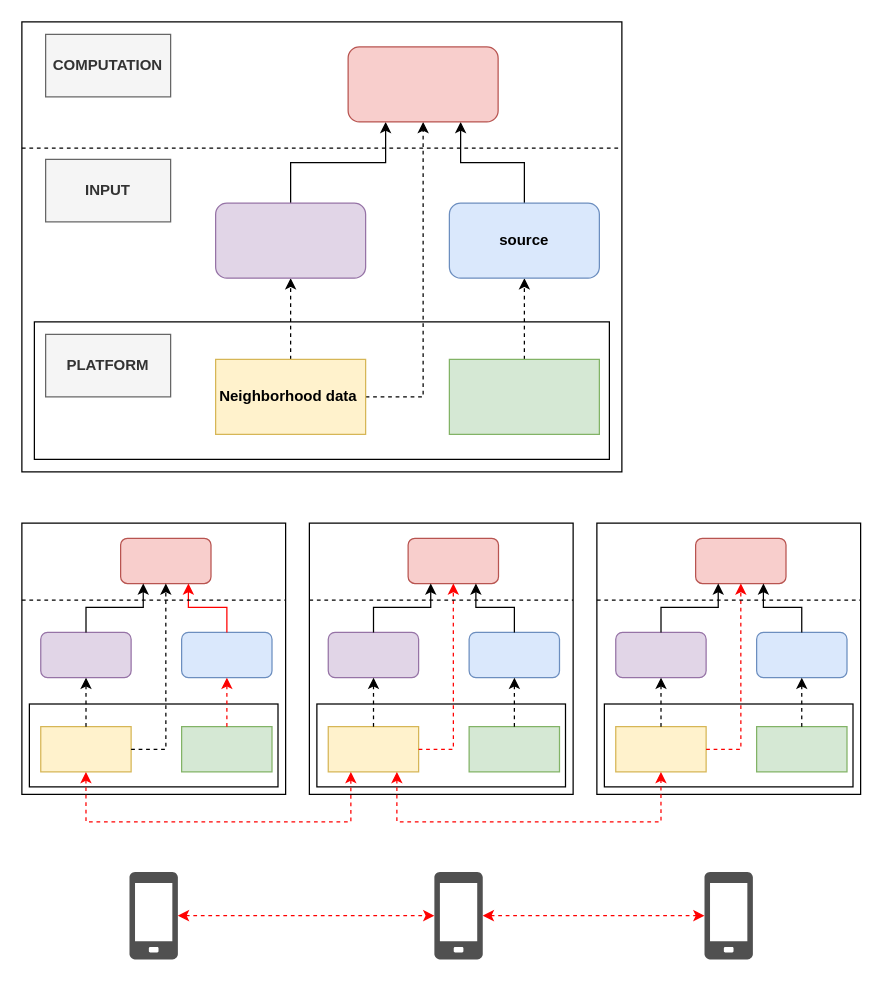
Image size: 884x981. Some labels were removed from this diagram. Here are the shapes that lost their labels. From the top down, the centre of each, then its label:
At (422,84): "gradient(source)".
At (290,240): "nbrRange".
At (523,396): "Local sensors".
